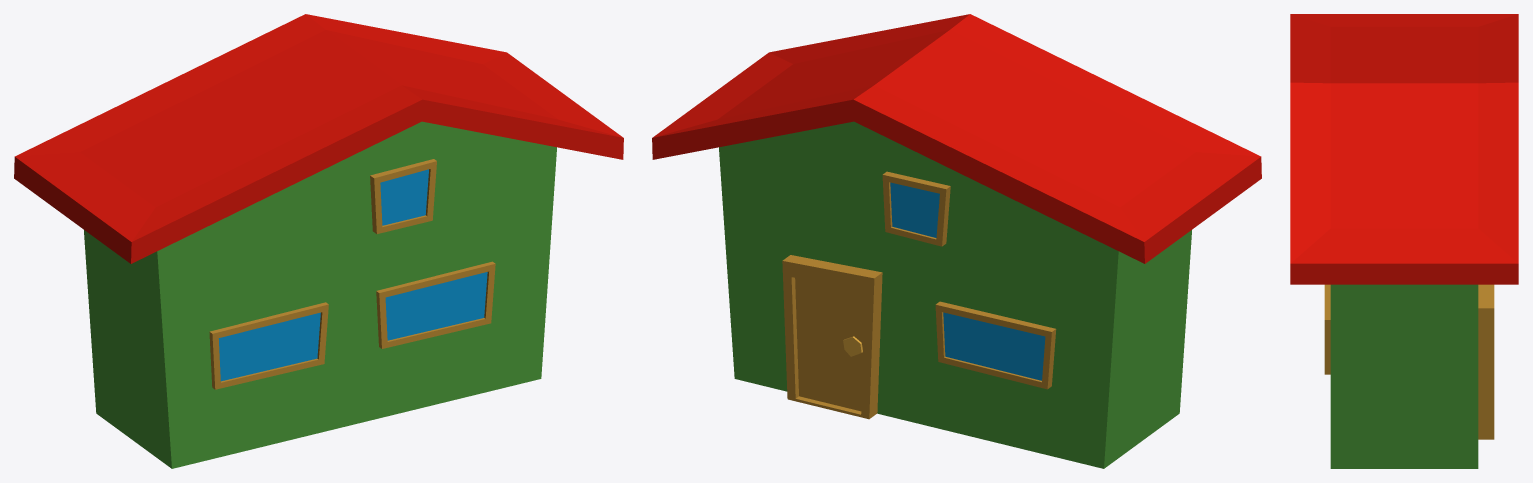
Rendered from House3.fbx.
The picture shows the model from 3 angles, left to right: view 1: azimuth 30°, elevation 25°; view 2: azimuth 150°, elevation 25°; view 3: azimuth 270°, elevation 25°; orthographic projection. The views are drawn at different scales.
Parts seen in each view (by area): view 1: Cube, Cube.004, Cube.005, Cube.006; view 2: Cube, Cube.001, Cube.003, Cube.002; view 3: Cube, Cube.001, Cube.004.
Boxes of the visible parts, x1,y1,x2,y2 form: Cube: (14, 14, 623, 468); Cube.004: (376, 261, 495, 348); Cube.005: (209, 302, 328, 389); Cube.006: (370, 159, 436, 233); Cube: (652, 14, 1261, 468); Cube.001: (782, 255, 882, 419); Cube.003: (935, 301, 1056, 389); Cube.002: (882, 171, 950, 246); Cube: (1290, 14, 1518, 468); Cube.001: (1478, 284, 1494, 439); Cube.004: (1324, 284, 1330, 374).
Size of the model in its own units: 751 by 478 by 309.
